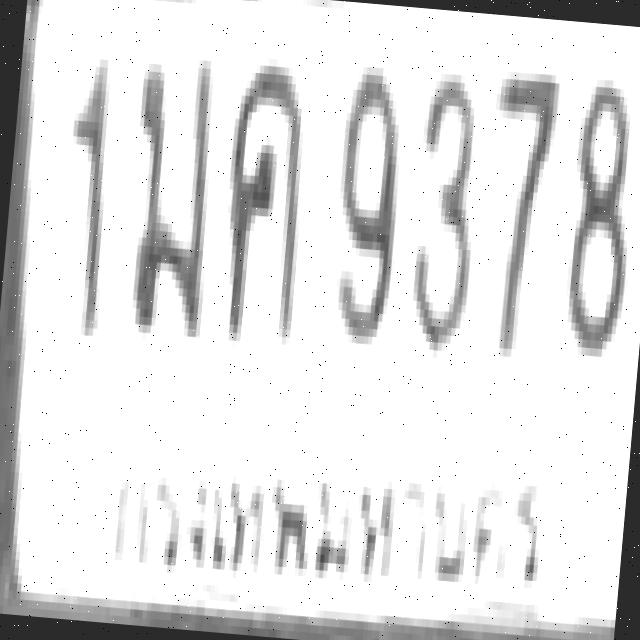1: (51, 49, 117, 336)
13KhorKhwai: (212, 51, 310, 341)
3: (401, 63, 486, 344)
42MorMa: (118, 43, 220, 333)
7: (472, 62, 558, 350)
8: (556, 69, 638, 349)
9: (324, 56, 408, 338)
Bangkok: (88, 410, 564, 624)
